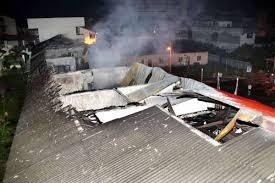fire: (82, 29, 97, 45)
